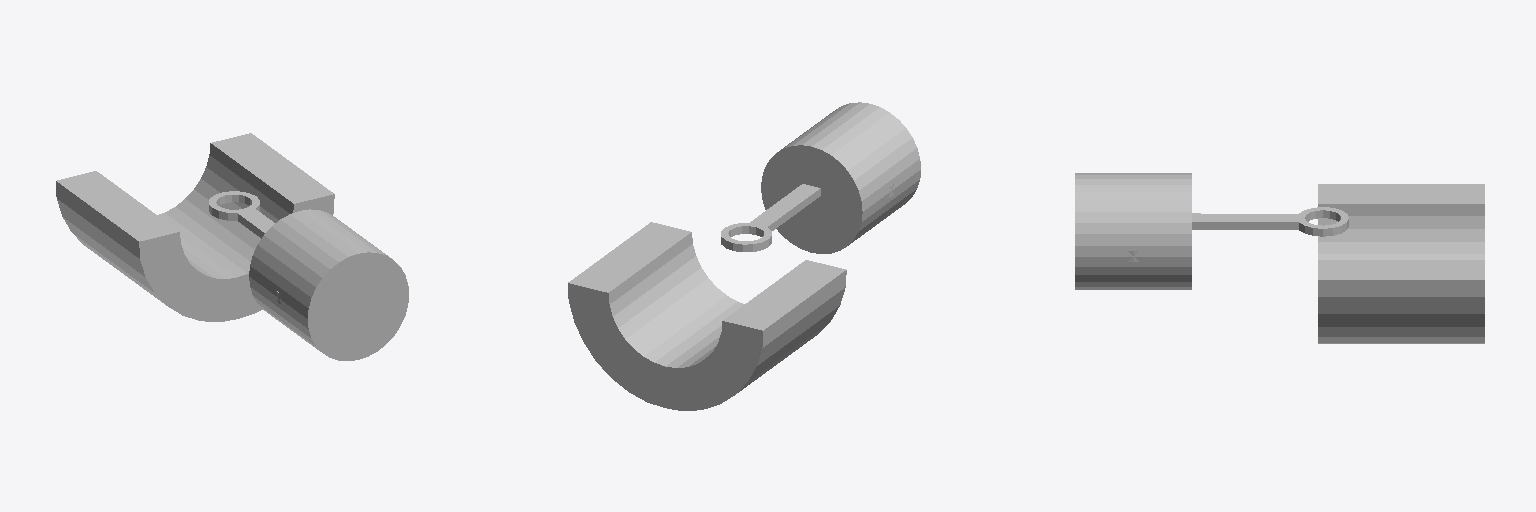
File: engine.obj
3 renders of one model, left to right at view 1: azimuth 30°, elevation 25°; view 2: azimuth 150°, elevation 25°; view 3: azimuth 270°, elevation 25°, orthographic.
Visible parts, largest first — view 1: Engine.004_Cylinder.003, Engine.003_Cylinder, Engine.002_Plane.001; view 2: Engine.004_Cylinder.003, Engine.003_Cylinder, Engine.002_Plane.001; view 3: Engine.004_Cylinder.003, Engine.003_Cylinder, Engine.002_Plane.001.
Part boxes in pixels (x1,y1,x2,y2): Engine.004_Cylinder.003: (56,133,334,321); Engine.003_Cylinder: (249,209,408,360); Engine.002_Plane.001: (209,191,274,238); Engine.004_Cylinder.003: (568,222,846,410); Engine.003_Cylinder: (761,102,920,253); Engine.002_Plane.001: (721,184,820,251); Engine.004_Cylinder.003: (1318,184,1484,343); Engine.003_Cylinder: (1075,173,1191,289); Engine.002_Plane.001: (1192,207,1348,236).
Size of the model in its own units: 3.85 by 2.91 by 6.99.